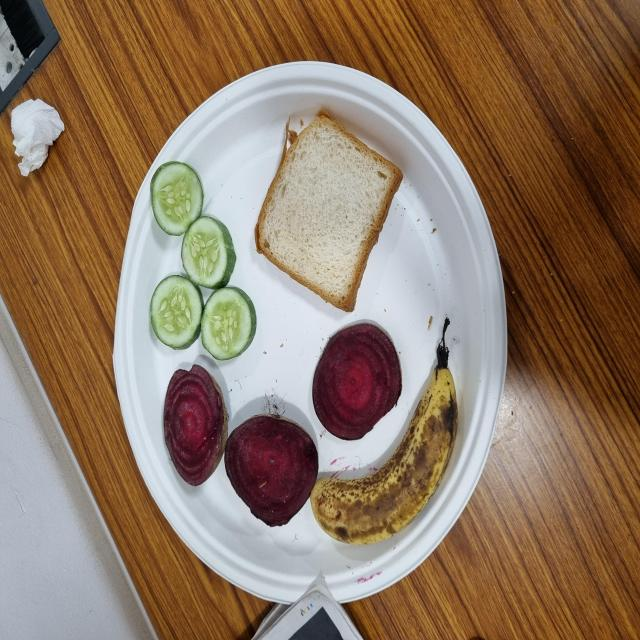banana: (71, 414, 238, 612)
cucumber: (216, 199, 276, 277), (260, 242, 320, 318), (301, 201, 360, 276), (209, 266, 265, 345)
